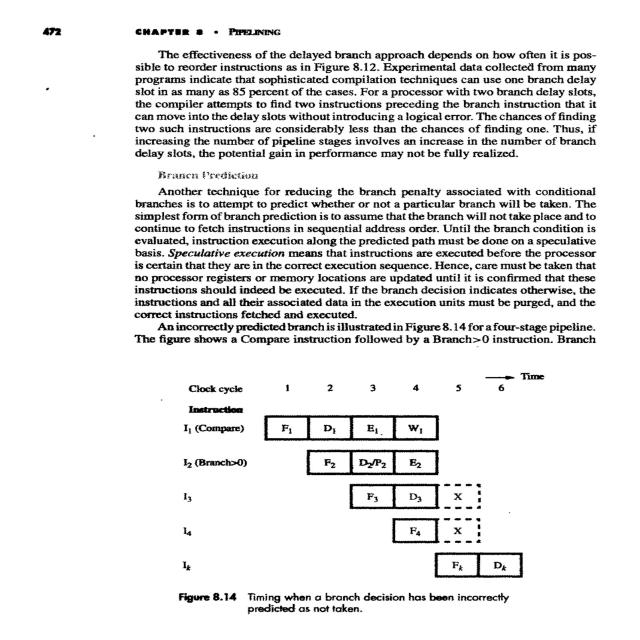diagram: (110, 365, 598, 640)
